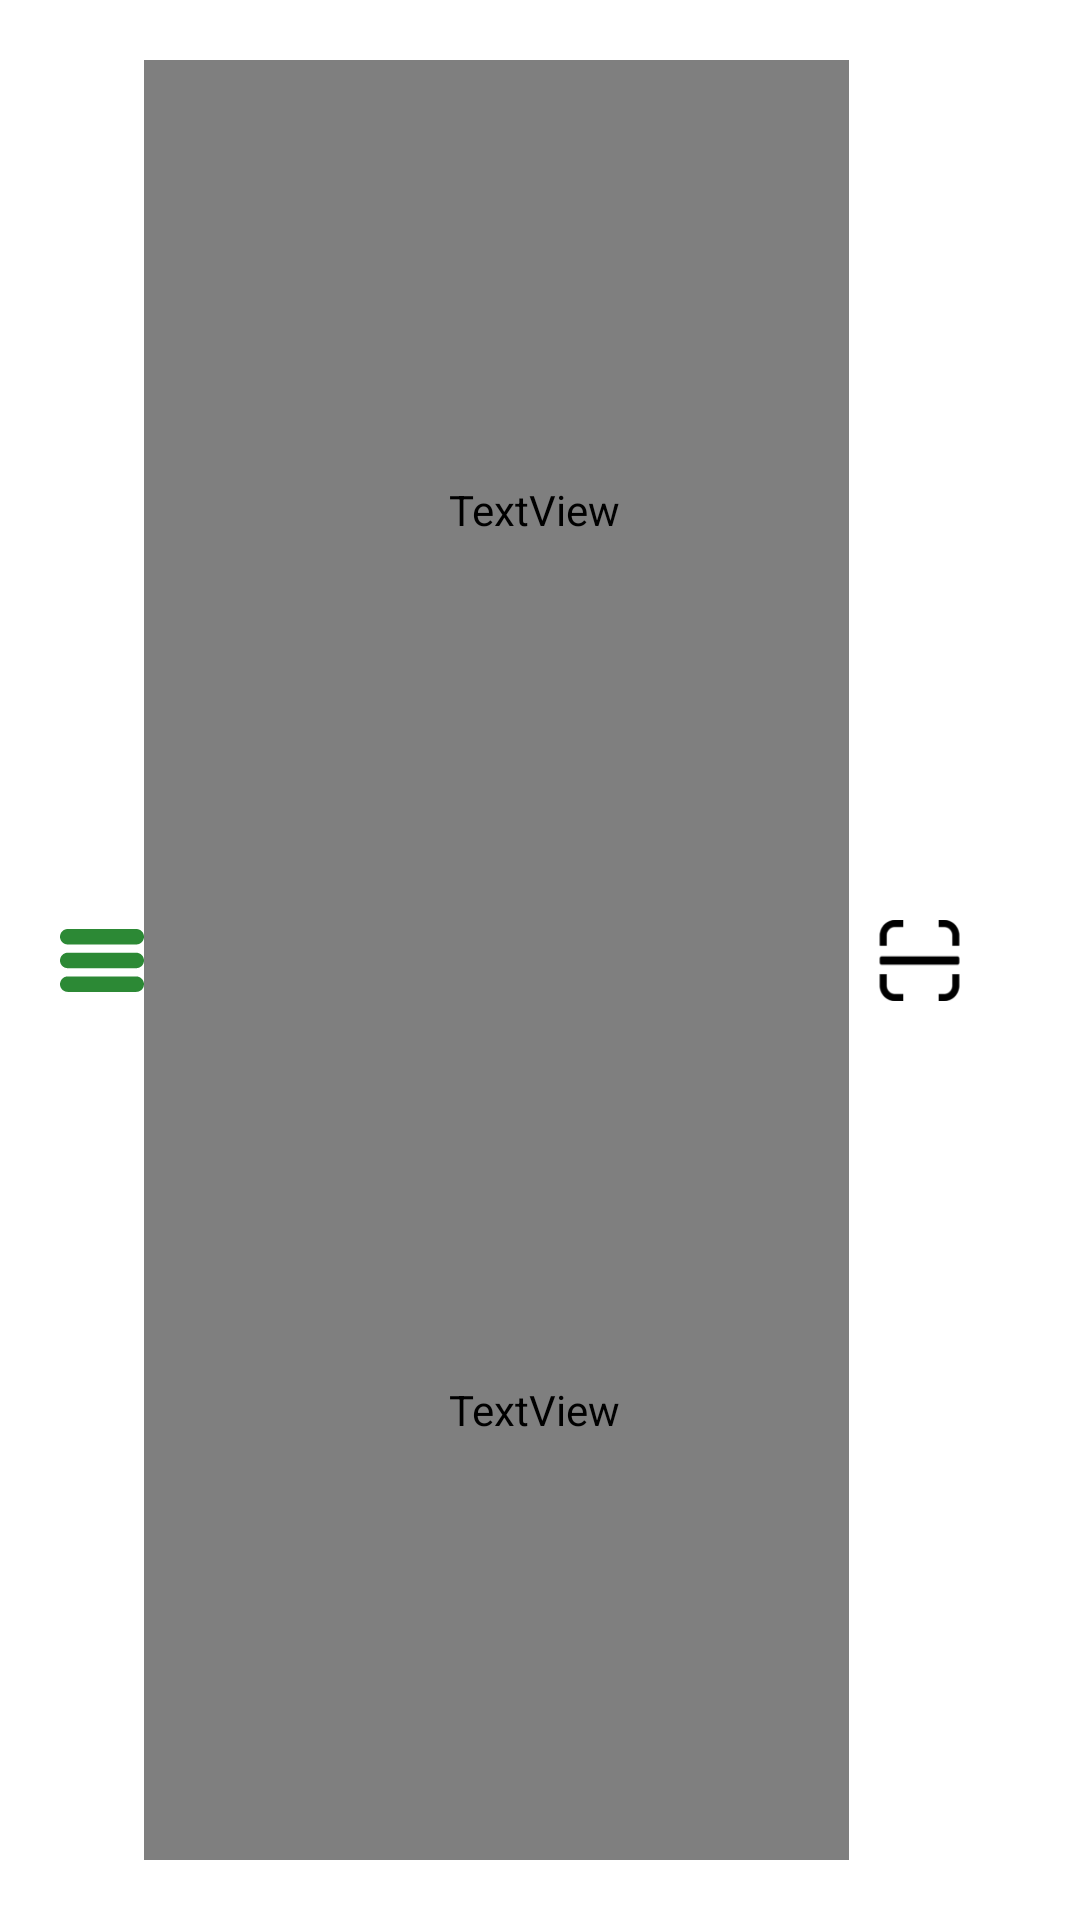

Where to tap for icons on this 1080px×1920px app screen, as point (x, y):
menu: point (102, 960)
scan: point (919, 960)
